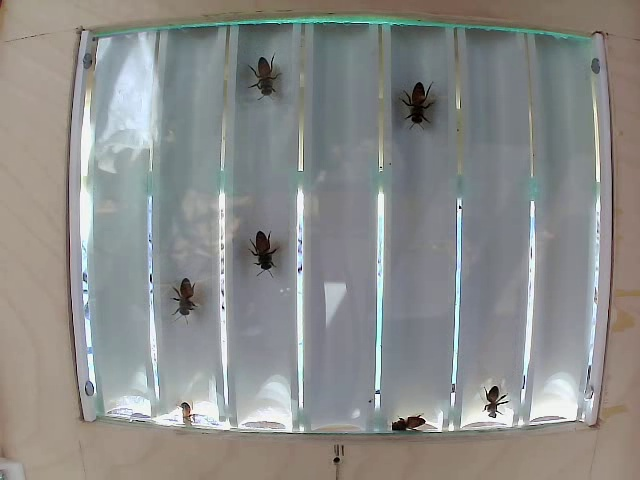bee: (390, 69, 438, 139), (245, 51, 294, 119), (250, 219, 284, 284), (171, 267, 203, 325)
